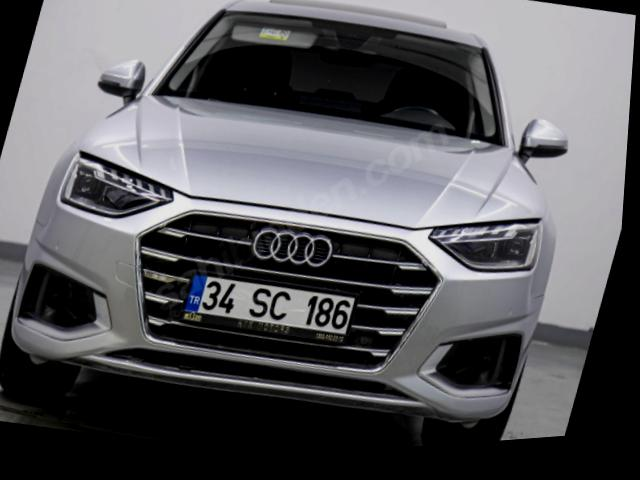plaka: (182, 275, 354, 340)
